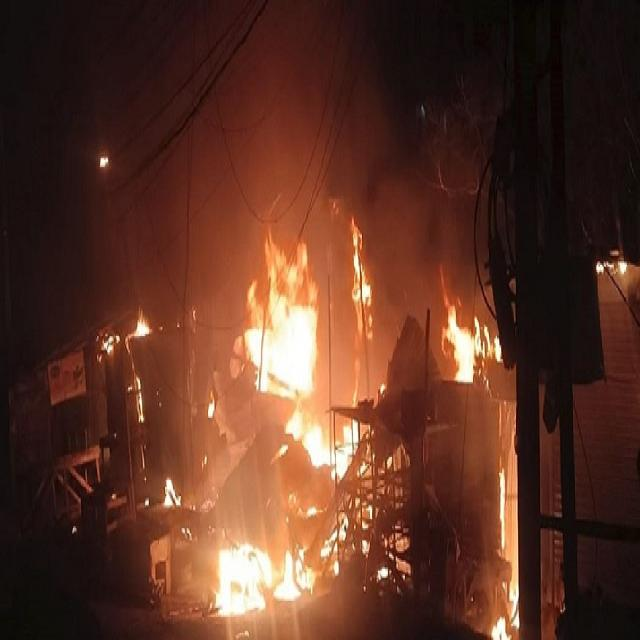fire: (245, 230, 317, 398), (285, 399, 359, 480), (215, 543, 274, 615), (440, 271, 474, 383), (349, 218, 371, 305), (274, 552, 302, 599)
